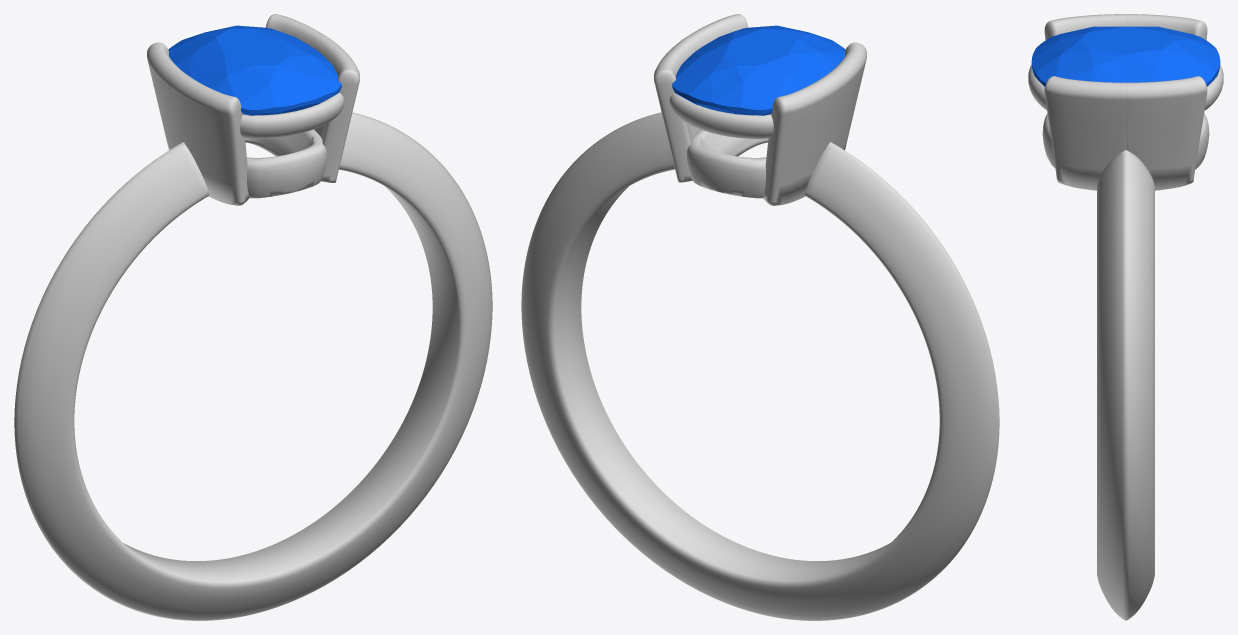
File: bluesapphire-cushion-platinum-halfmoonbezel-knifeedge-nosidestones.glb
3 renders of one model, left to right at view 1: azimuth 30°, elevation 25°; view 2: azimuth 150°, elevation 25°; view 3: azimuth 270°, elevation 25°, orthographic. The views are drawn at different scales.
Parts seen in each view (by area): view 1: metal.002, stone; view 2: metal.002, stone; view 3: metal.002, stone.
Part boxes in pixels (box(x1,y1,x2,y2)): metal.002: box(14, 14, 492, 620); stone: box(168, 25, 341, 115); metal.002: box(521, 14, 999, 620); stone: box(672, 25, 845, 115); metal.002: box(1028, 14, 1223, 620); stone: box(1031, 26, 1220, 86).
Bounding box in the file's own units: 20.5 × 23.24 × 7.42.
